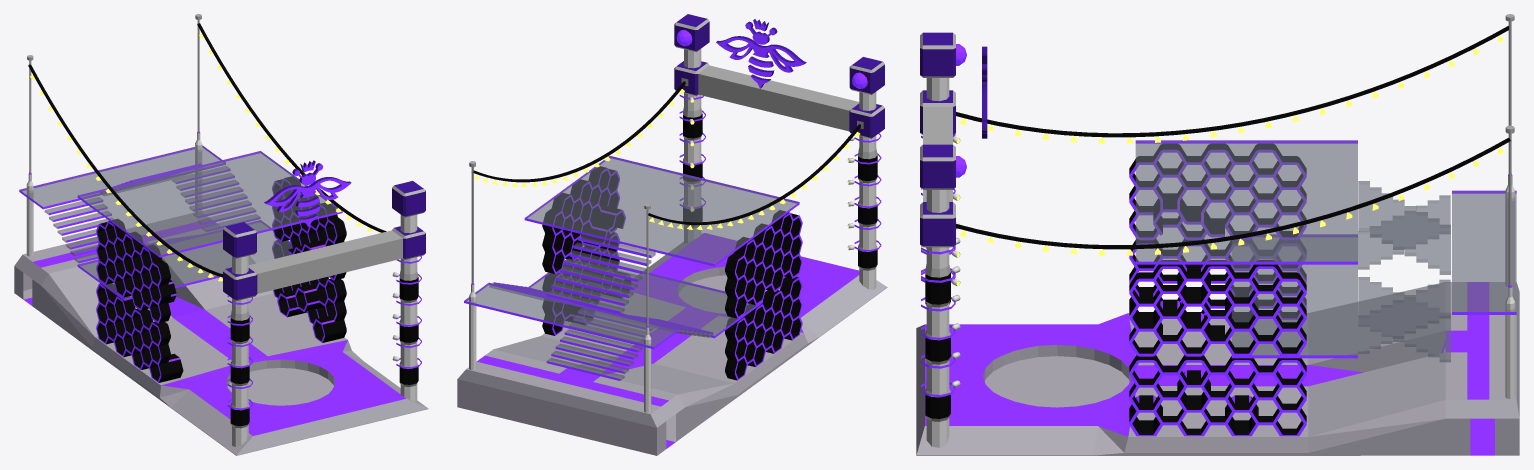
The model's file is Decentraland Arena9dboz.glb.
3 views of the same model, side by side, from view 1: azimuth 30°, elevation 25°; view 2: azimuth 150°, elevation 25°; view 3: azimuth 270°, elevation 25° (orthographic). The views are drawn at different scales.
Visible parts, largest first — view 1: Cube, HoneyComb.002, Cube.006, Cube.001, Cube.008, Cube.010, Cylinder.001, Cylinder.003, Walkway.002, Walkway.003, Purple Bee Logo, Cube.002 (+9 smaller); view 2: Cube, HoneyComb.002, Cube.006, Cube.008, Cube.001, Cube.010, Walkway.004, Walkway.001, Cylinder.003, Cylinder.001, Purple Bee Logo, Cube.007 (+9 smaller); view 3: Cube, HoneyComb.002, Cube.006, Cube.008, Cube.010, Cylinder.001, Walkway.001, Walkway.004, Walkway.002, Walkway.003, Cube.007, Cube.002 (+6 smaller).
Boxes of the visible parts, x1,y1,x2,y2 form: Cube: (14, 213, 428, 455); HoneyComb.002: (96, 176, 346, 382); Cube.006: (77, 151, 342, 257); Cube.001: (248, 226, 425, 293); Cube.008: (77, 220, 291, 300); Cube.010: (19, 145, 225, 209); Cylinder.001: (399, 214, 418, 401); Cylinder.003: (230, 256, 249, 446); Walkway.002: (172, 166, 260, 231); Walkway.003: (44, 197, 113, 263); Purple Bee Logo: (264, 160, 351, 227); Cube.002: (28, 64, 222, 281); Cube: (457, 233, 887, 455); HoneyComb.002: (542, 166, 802, 380); Cube.006: (524, 156, 799, 266); Cube.008: (528, 257, 762, 338); Cube.001: (674, 61, 859, 131); Cube.010: (464, 282, 678, 349); Walkway.004: (546, 234, 655, 313); Walkway.001: (546, 308, 654, 380); Cylinder.003: (858, 92, 877, 289); Cylinder.001: (683, 49, 702, 243); Purple Bee Logo: (716, 19, 806, 88); Cube.007: (473, 81, 685, 187); Cube: (916, 282, 1519, 455); HoneyComb.002: (1129, 144, 1306, 436); Cube.006: (1135, 140, 1357, 264); Cube.008: (1231, 234, 1357, 358); Cube.010: (1452, 190, 1516, 314); Cylinder.001: (925, 190, 950, 447); Walkway.001: (1358, 277, 1450, 362); Walkway.004: (1358, 181, 1450, 274); Walkway.002: (1358, 279, 1450, 353); Walkway.003: (1358, 195, 1450, 269); Cube.007: (956, 138, 1510, 255); Cube.002: (956, 26, 1508, 143).
Size of what is drawn, in the model's own units: 16 by 20.02 by 32.
